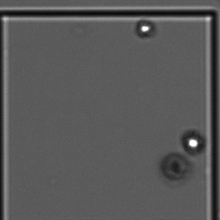Dead Cell: (155, 151, 189, 183)
Living Cell: (180, 130, 204, 155), (133, 18, 155, 42)
